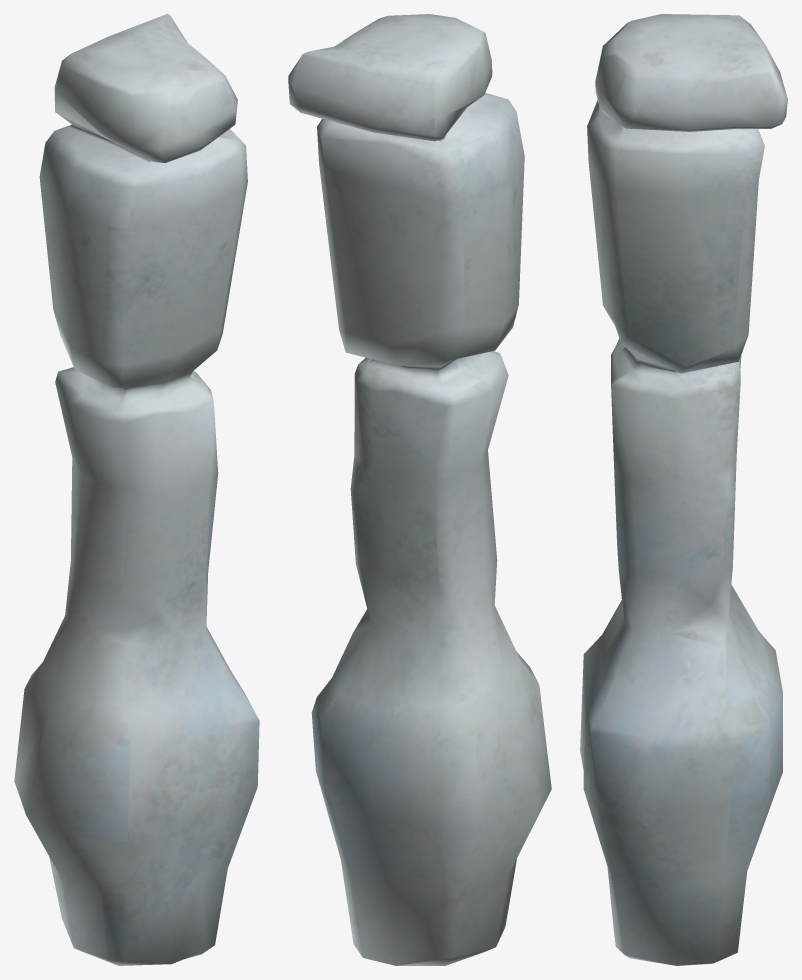
The model's file is P_RockDesert_Hoodoo12.obj.
The picture shows the model from 3 angles, left to right: view 1: azimuth 30°, elevation 25°; view 2: azimuth 150°, elevation 25°; view 3: azimuth 270°, elevation 25°; orthographic projection. The views are drawn at different scales.
Bounding box in the file's own units: 4.3 × 17.78 × 3.68.
